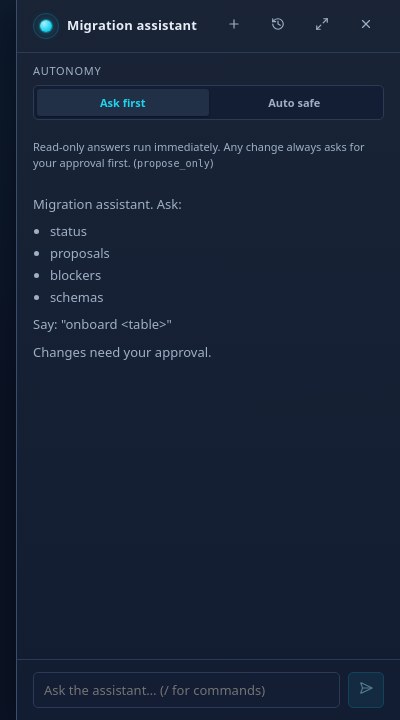
Test: AgentSidebar › inserts the picked command instead of sending it
The width and height of the screenshot is (400, 720).
Type "/inspect" into the field named "Message the assistant" at (186, 690), box [33,672,340,708]
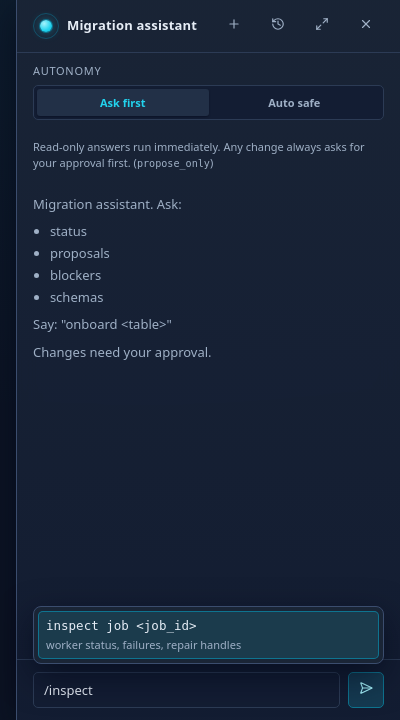
Press Enter in the field named "Message the assistant", box [33,672,340,708]
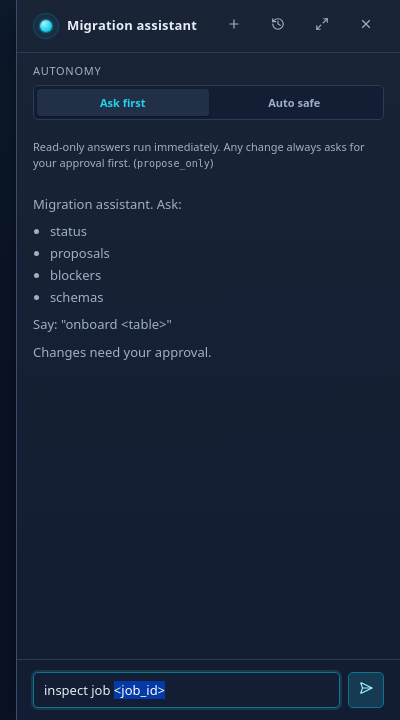
Expected: the field named "Message the assistant" holds "inspect job <job_id>", [33,672,340,708]
Expected: the list "inspect job <job_id> worker status, failures, repair handles" is gone
